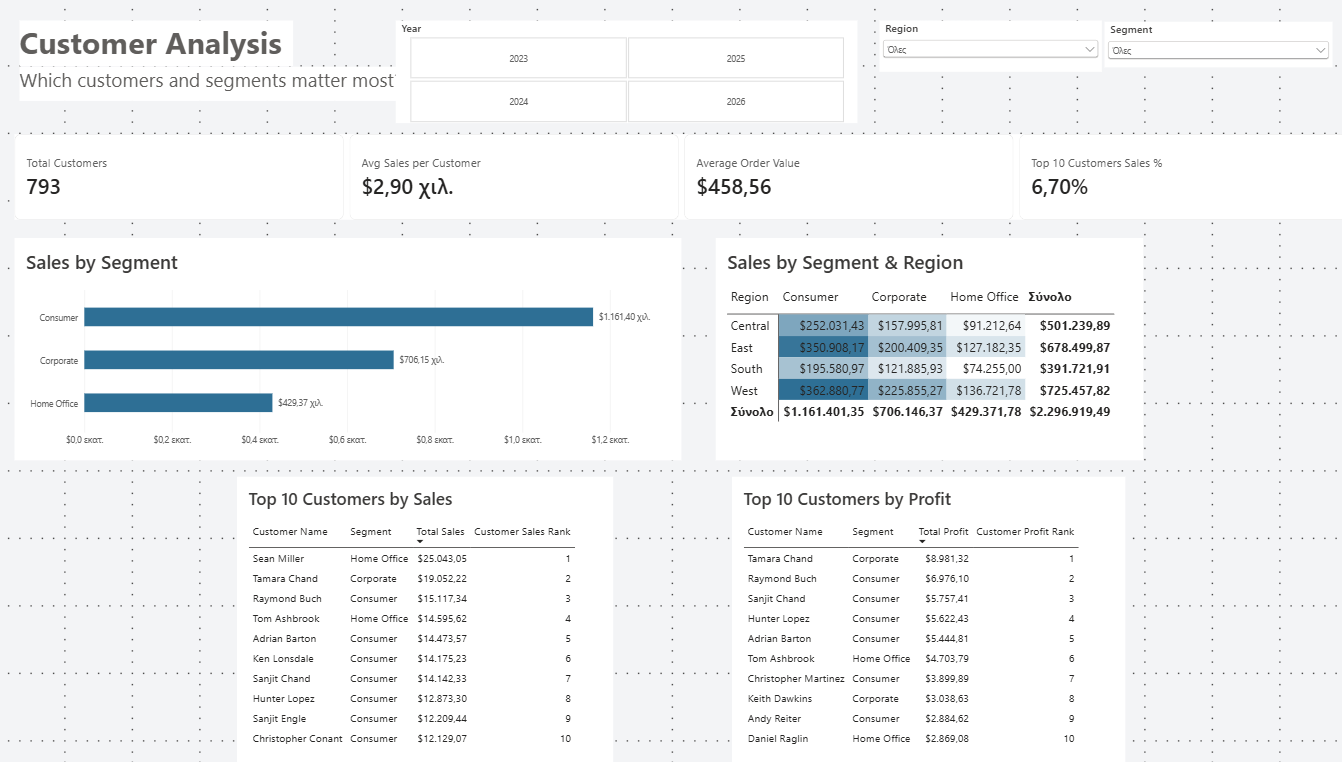

Layout of this report page (visuals, bound fields, positions):
{"tool":"powerbi","page":{"name":"Customer Analysis","canvas":[1920,1080],"ordinal":2},"visuals":[{"type":"textbox","box":[32,32,384,64],"z":0},{"type":"textbox","box":[32,96,560,48],"z":1000},{"type":"cardVisual","fields":{"Data":["_Measures.Total Customers","_Measures.Avg Sales per Customer","_Measures.Average Order Value","_Measures.Top 10 Customers Sales %"]},"box":[24,192,1872,120],"z":4001},{"type":"clusteredBarChart","title":"Sales by Segment","fields":{"Category":["DimCustomer.Segment"],"Y":["_Measures.Total Sales"]},"box":[24,336,936,312],"z":4002},{"type":"pivotTable","title":"Sales by Segment & Region","fields":{"Columns":["DimCustomer.Segment"],"Rows":["DimGeography.Region"],"Values":["_Measures.Total Sales"]},"box":[1008,336,600,312],"z":4003},{"type":"tableEx","title":"Top 10 Customers by Sales","fields":{"Values":["DimCustomer.Customer Name","DimCustomer.Segment","_Measures.Total Sales","_Measures.Customer Sales Rank"]},"box":[336,672,528,408],"z":4004},{"type":"tableEx","title":"Top 10 Customers by Profit","fields":{"Values":["DimCustomer.Customer Name","DimCustomer.Segment","_Measures.Total Profit","_Measures.Customer Profit Rank"]},"box":[1032,672,552,408],"z":4005},{"type":"slicer","fields":{"Values":["DimDate.Year"]},"box":[560,32,648,144],"z":4006},{"type":"slicer","fields":{"Values":["DimGeography.Region"]},"box":[1238.1,30.9,312,72],"z":4007},{"type":"slicer","fields":{"Values":["DimCustomer.Segment"]},"box":[1554.8,32.9,320,64],"z":4008}]}

Visuals, with their boxes in screenshot pixels (x1, y1, x2, y2), scaled from the page's 1920x1080 canvas onto the 1342x762 screenshot:
textbox: (left=22, top=23, right=291, bottom=68)
textbox: (left=22, top=68, right=414, bottom=102)
cardVisual - _Measures.Total Customers x _Measures.Avg Sales per Customer: (left=17, top=135, right=1325, bottom=220)
"Sales by Segment" clusteredBarChart: (left=17, top=237, right=671, bottom=457)
"Sales by Segment & Region" pivotTable: (left=705, top=237, right=1124, bottom=457)
"Top 10 Customers by Sales" tableEx: (left=235, top=474, right=604, bottom=761)
"Top 10 Customers by Profit" tableEx: (left=721, top=474, right=1107, bottom=761)
slicer - DimDate.Year: (left=391, top=23, right=844, bottom=124)
slicer - DimGeography.Region: (left=865, top=22, right=1083, bottom=73)
slicer - DimCustomer.Segment: (left=1087, top=23, right=1310, bottom=68)
